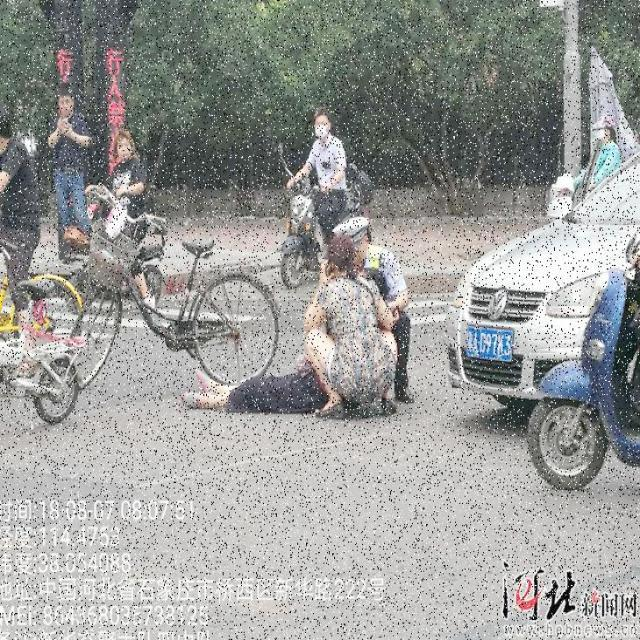fall: (184, 353, 356, 410)
